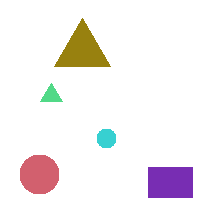circle: (20, 155, 58, 193), (97, 129, 115, 147)
rectangle: (148, 167, 192, 197)
triangle: (54, 18, 110, 66), (40, 83, 62, 101)
